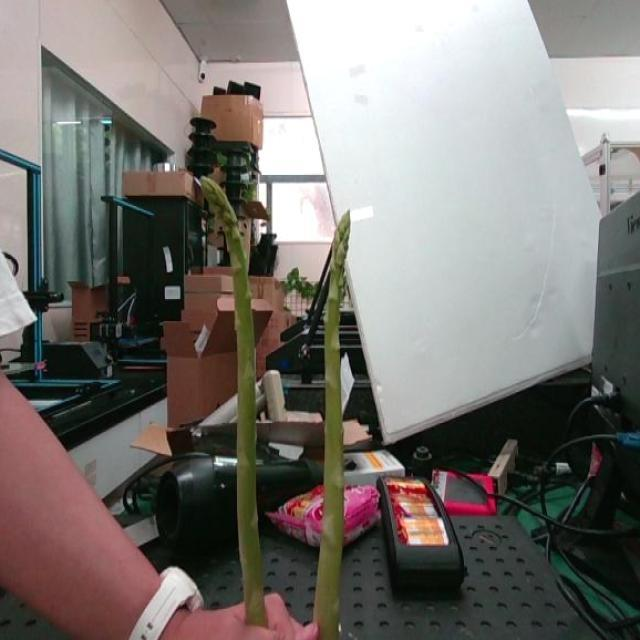aspargus: (204, 174, 266, 627), (315, 215, 353, 640)
